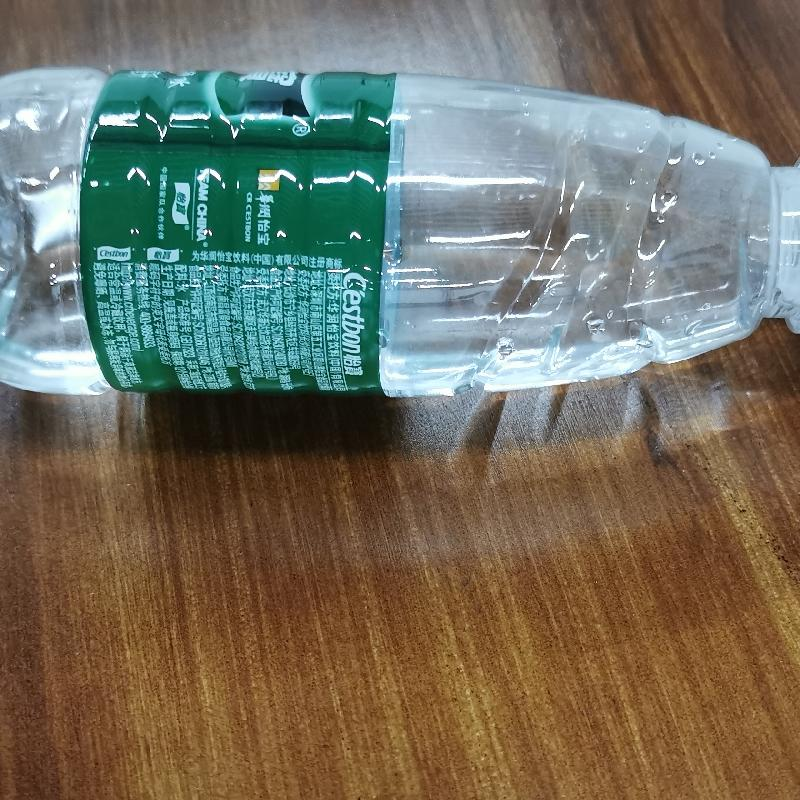bottles: (1, 43, 799, 424)
